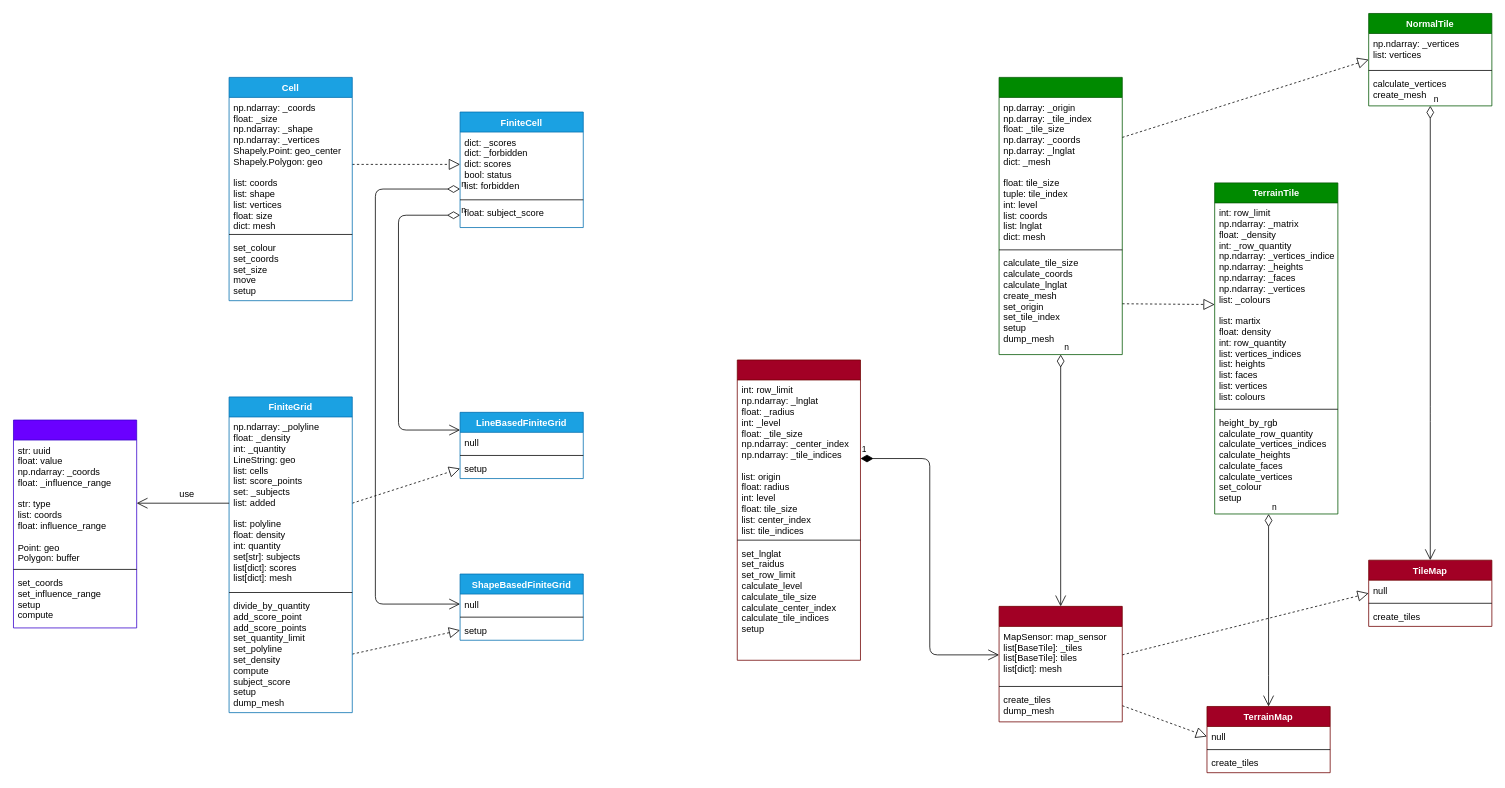
This 1505x788 diagram has some shape labels left out. The box of each missing label's shape, as (x1, y1, x2, y2) in pixels:
BaseMap: (998, 606, 1122, 722)
BaseTile: (998, 77, 1122, 355)
MapSensor: (737, 359, 860, 660)
ScorePoint: (13, 419, 137, 628)
